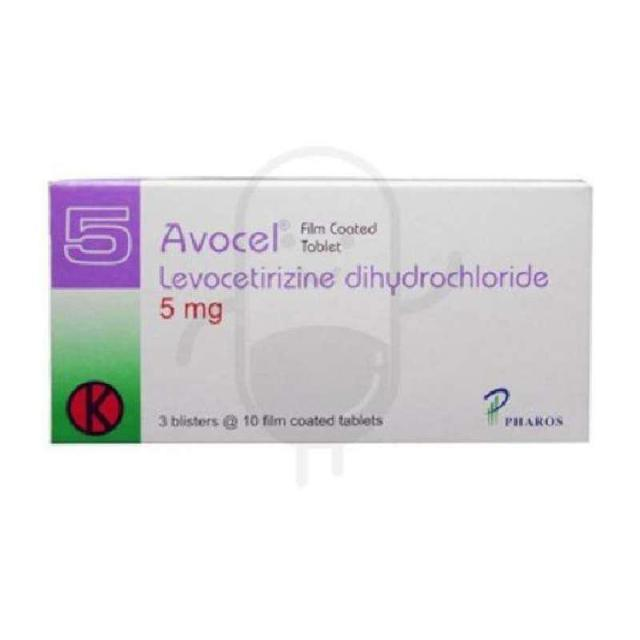drug-name: (156, 220, 280, 255)
